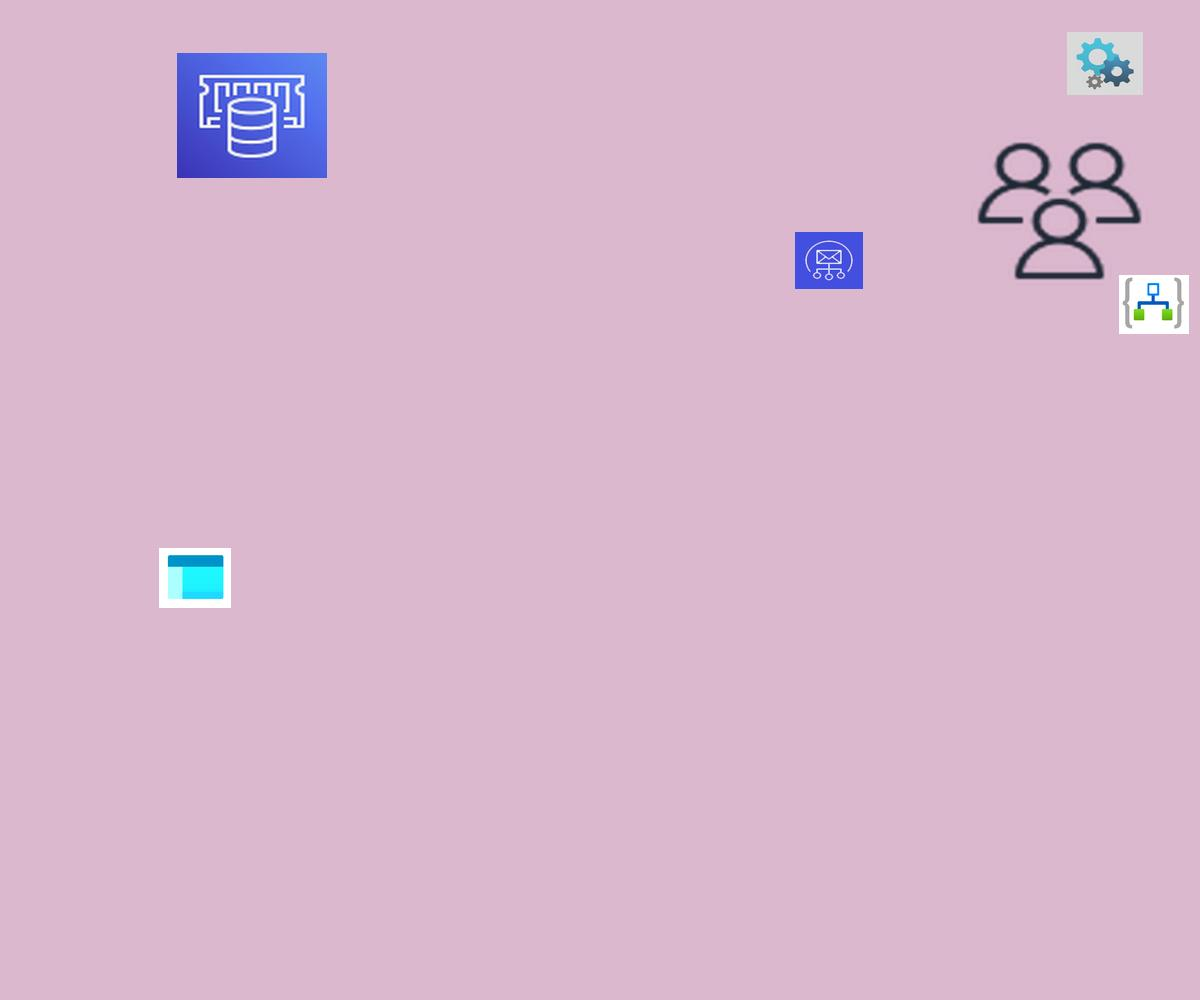AWS-ElastiCache: (177, 53, 327, 178)
AWS-Res_Users: (971, 137, 1148, 285)
AWS-Simple-Email-Service: (795, 232, 863, 289)
Azure_api: (1067, 32, 1143, 95)
Azure_integration-204-Logic-Apps: (1119, 275, 1189, 334)
Azure_management-portal: (159, 548, 231, 608)
